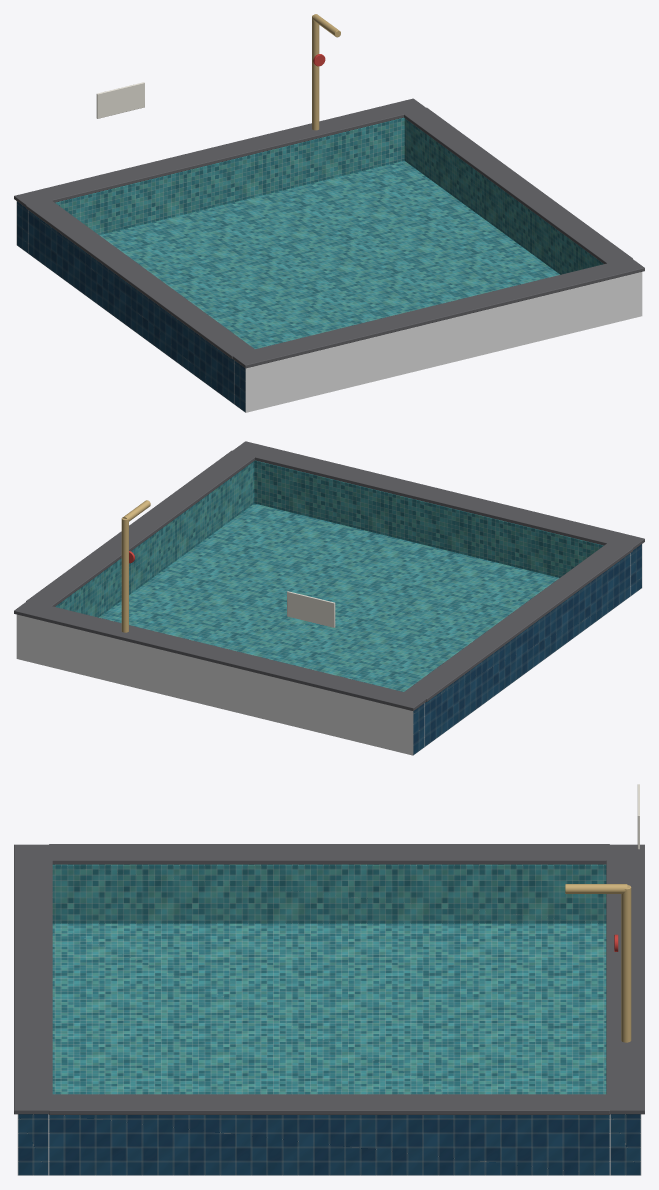
File: hot_tub.glb
3 views of the same model, one above another, from view 1: azimuth 30°, elevation 25°; view 2: azimuth 150°, elevation 25°; view 3: azimuth 270°, elevation 25° (orthographic). The views are drawn at different scales.
Visible parts, largest first — view 1: HotTub, COL_Wallz1; view 2: HotTub, COL_Wallz-1; view 3: HotTub, COL_Wallx1.
Part boxes in pixels (x1,y1,x2,y2): HotTub: (14,14,644,412); COL_Wallz1: (234,272,642,412); HotTub: (14,441,644,754); COL_Wallz-1: (16,614,424,755); HotTub: (14,784,644,1175); COL_Wallx1: (49,1115,609,1175).
Size of the model in its own units: 5.06 by 1.97 by 5.06.
Materials: 6 (2 with a texture image).
